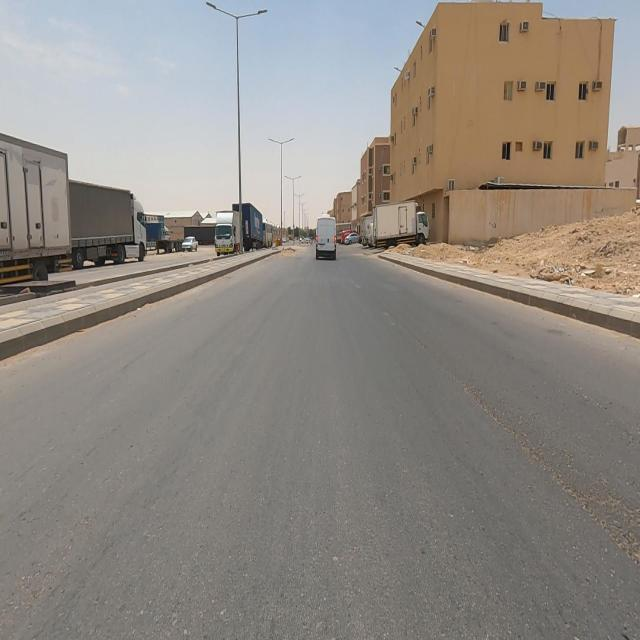debris: (512, 233, 590, 310)
